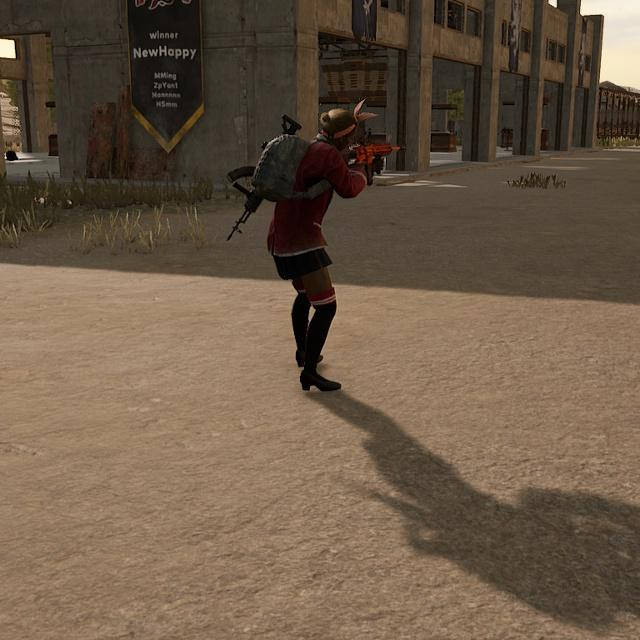head: (317, 105, 361, 153)
people: (265, 103, 373, 394)
